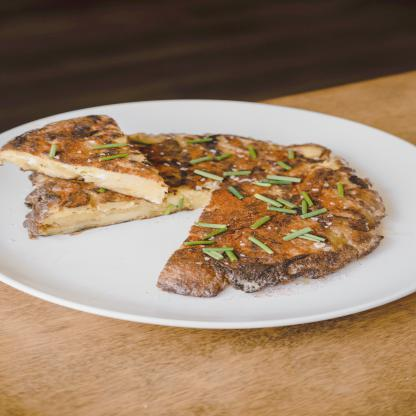Carne: (188, 172, 352, 288)
